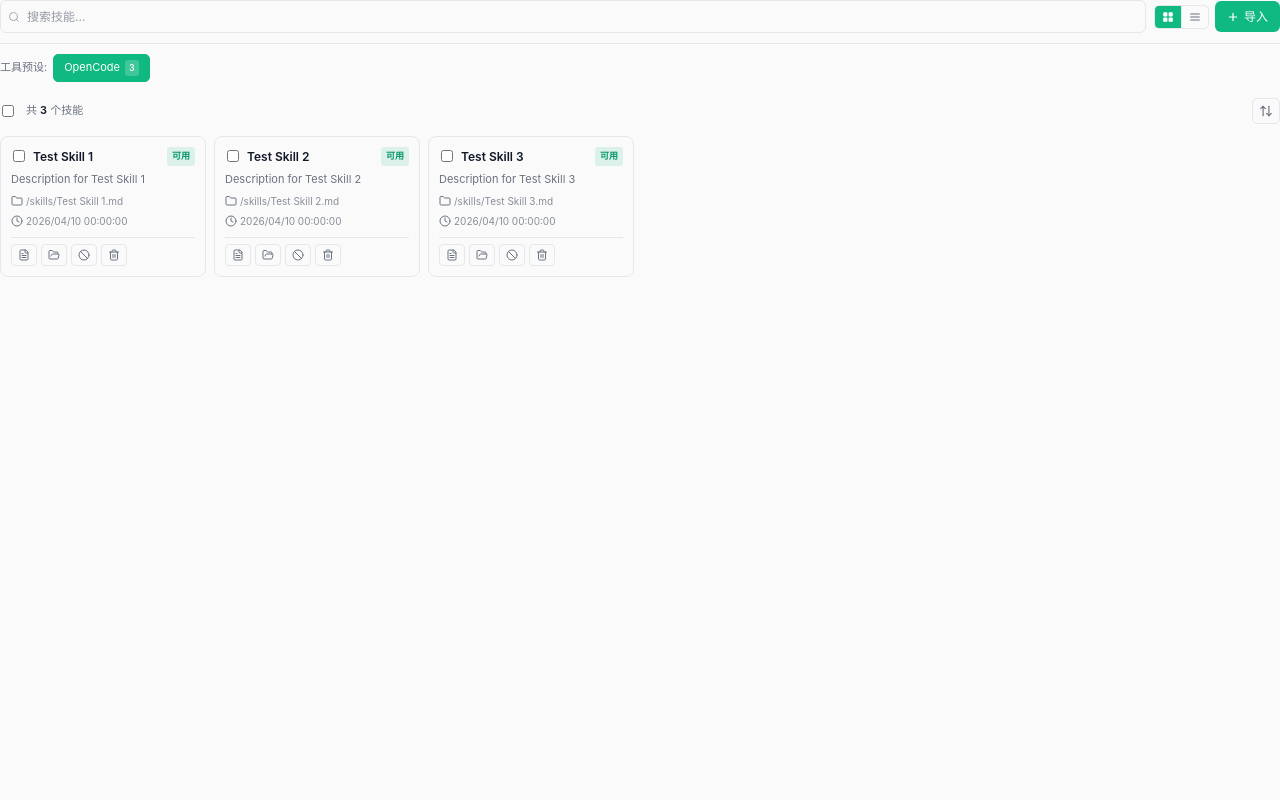
Test: ProjectSkillList - Delete Confirmation › Single Delete Confirmation › shows confirmation dialog when delete button is clicked
Click the button titled "移除" below "/skills/Test Skill 1.md" at (114, 255), box x1=101 y1=244 x2=127 y2=266
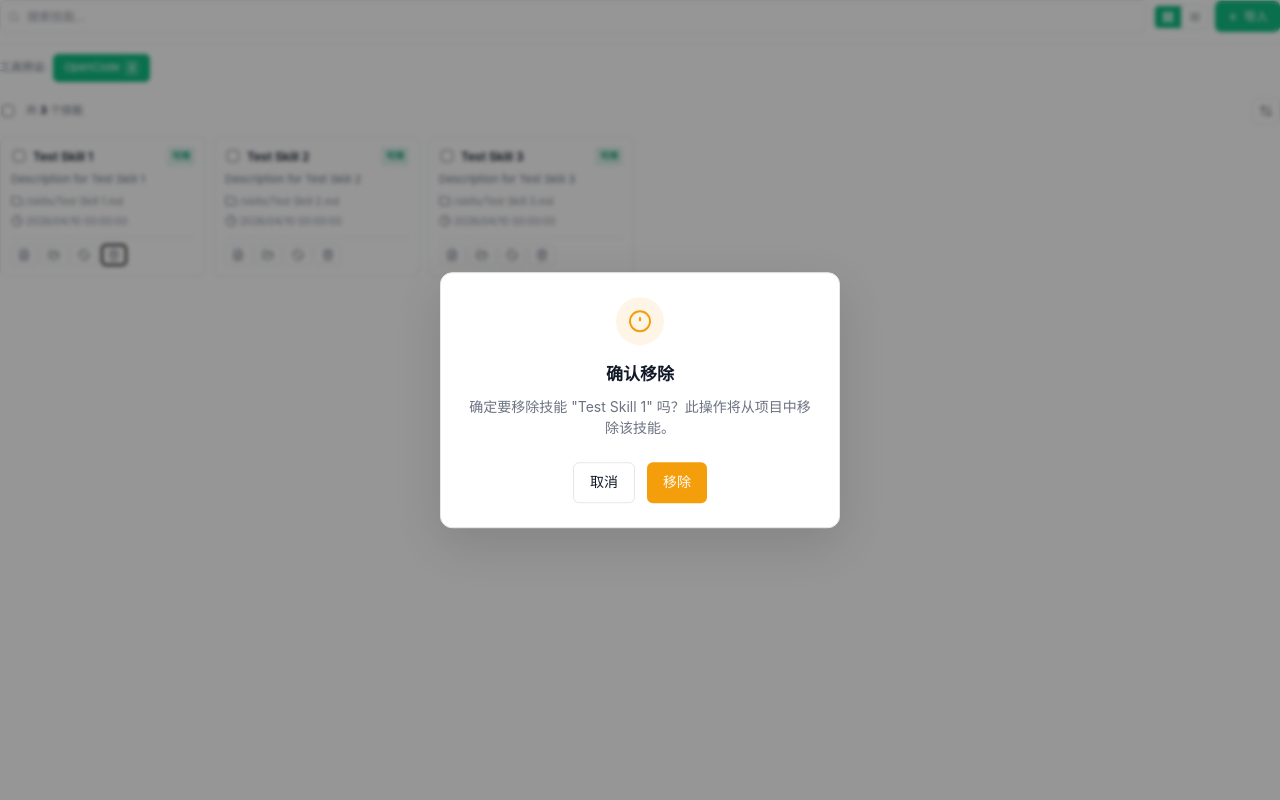
Result: the heading "确认移除" is shown at x1=606 y1=364 x2=674 y2=384
Result: the text "确定要移除技能 \"Test Skill 1\" 吗？此操作将从项目中移除该技能。" is shown at x1=465 y1=396 x2=815 y2=438
